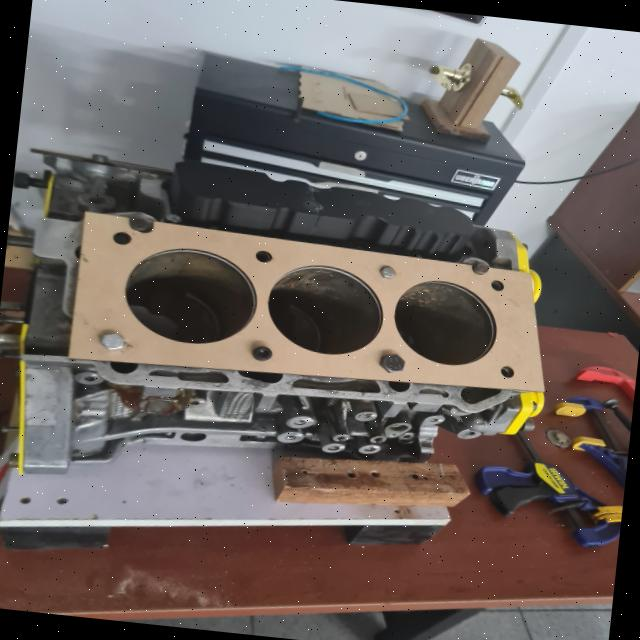tor_v1: (69, 212, 543, 391)
